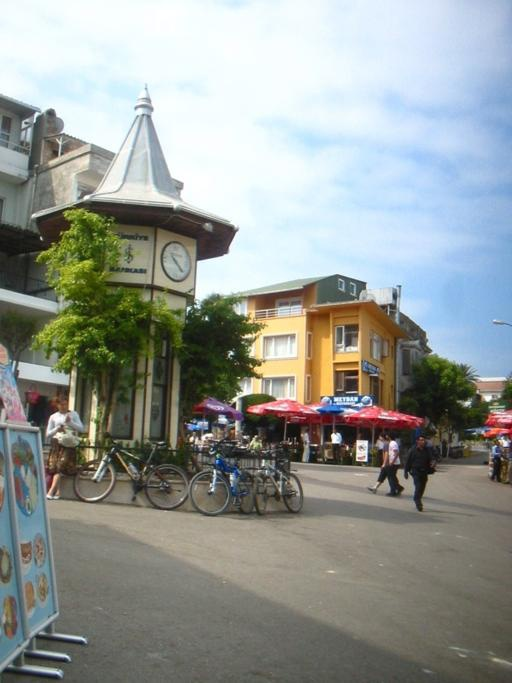non-vehicle: (74, 429, 189, 509), (187, 434, 254, 515), (252, 446, 303, 514), (496, 455, 511, 482)
